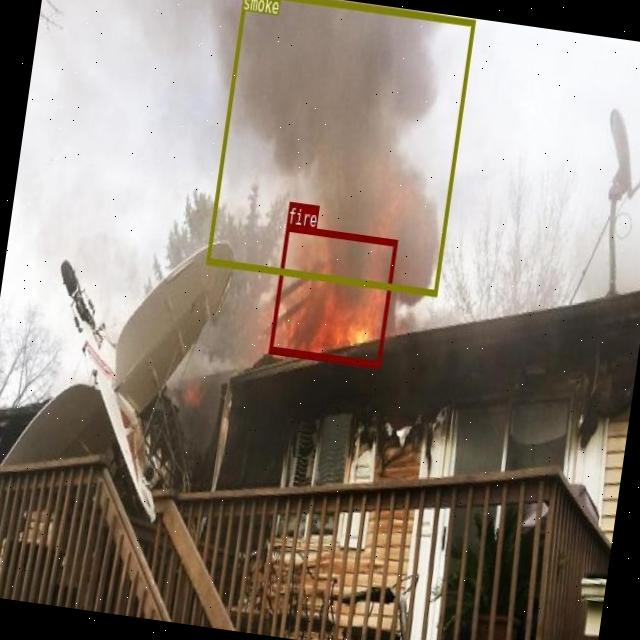fire: (269, 224, 398, 366)
smoke: (206, 0, 475, 295)
